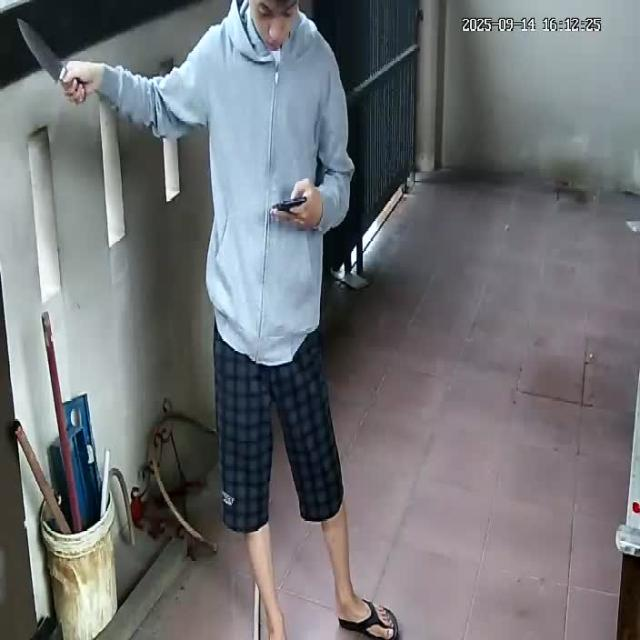senjata_tajam: (16, 15, 69, 84)
